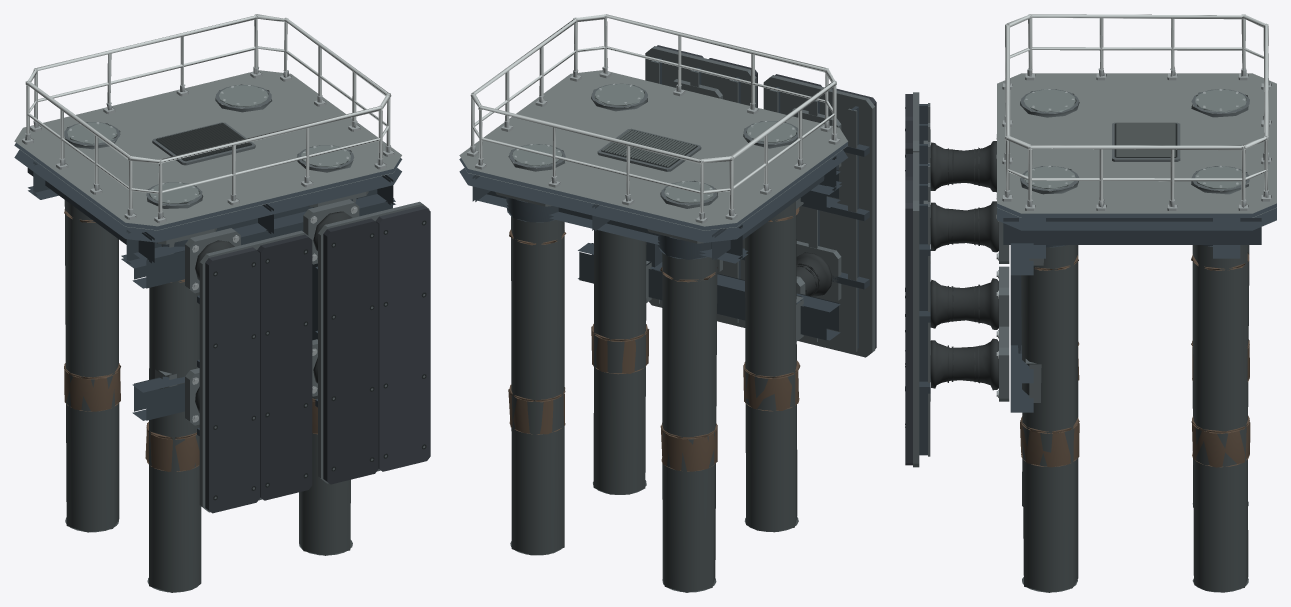
Rendered from ferry_dolphin_small_lod.glb.
3 views of the same model, side by side, from view 1: azimuth 30°, elevation 25°; view 2: azimuth 150°, elevation 25°; view 3: azimuth 270°, elevation 25° (orthographic). The views are drawn at different scales.
Visible parts, largest first — view 1: Fender 01, Flat steel working deck, Fender 02, Pile 03, Pile 01, Galvanized two-rail perimeter, Reaction beams and deck framing, Pile caps and inspection gratings, Pile 02; view 2: Flat steel working deck, Pile 03, Pile 04, Fender 01, Pile 01, Pile 02, Galvanized two-rail perimeter, Reaction beams and deck framing, Pile caps and inspection gratings, Fender 02; view 3: Flat steel working deck, Pile 04, Pile 02, Fender 02, Reaction beams and deck framing, Galvanized two-rail perimeter, Fender 01, Pile caps and inspection gratings, Pile 03.
Boxes of the visible parts, bbox=[...] form: Fender 01: bbox=[185, 228, 312, 513]; Flat steel working deck: bbox=[14, 70, 402, 242]; Fender 02: bbox=[303, 199, 430, 484]; Pile 03: bbox=[64, 200, 120, 532]; Pile 01: bbox=[145, 228, 216, 592]; Galvanized two-rail perimeter: bbox=[22, 14, 394, 223]; Reaction beams and deck framing: bbox=[27, 156, 395, 420]; Pile caps and inspection gratings: bbox=[64, 84, 354, 208]; Pile 02: bbox=[299, 191, 368, 555]; Flat steel working deck: bbox=[459, 70, 847, 242]; Pile 03: bbox=[647, 229, 717, 592]; Pile 04: bbox=[495, 192, 566, 555]; Fender 01: bbox=[763, 74, 876, 357]; Pile 01: bbox=[743, 201, 800, 532]; Pile 02: bbox=[591, 229, 649, 494]; Galvanized two-rail perimeter: bbox=[467, 14, 840, 223]; Reaction beams and deck framing: bbox=[472, 151, 841, 341]; Pile caps and inspection gratings: bbox=[508, 83, 798, 208]; Fender 02: bbox=[645, 45, 757, 327]; Flat steel working deck: bbox=[997, 73, 1276, 230]; Pile 04: bbox=[1191, 245, 1250, 592]; Pile 02: bbox=[1020, 245, 1079, 592]; Fender 02: bbox=[905, 152, 1009, 467]; Reaction beams and deck framing: bbox=[1003, 217, 1261, 412]; Galvanized two-rail perimeter: bbox=[1002, 14, 1271, 210]; Fender 01: bbox=[905, 92, 1009, 390]; Pile caps and inspection gratings: bbox=[1020, 89, 1249, 194]; Pile 03: bbox=[1191, 245, 1249, 507].
Bounding box in the file's own units: 5.15 × 7.91 × 5.77.
